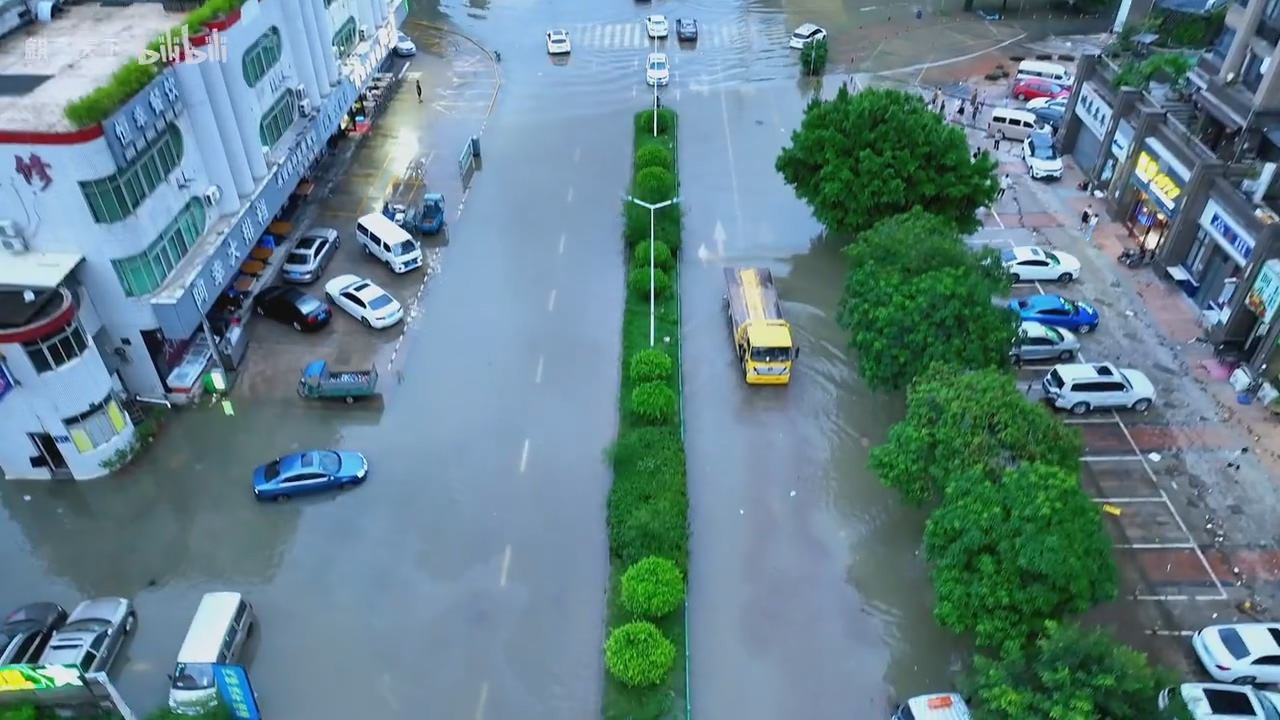puddle: (397, 162, 910, 720)
